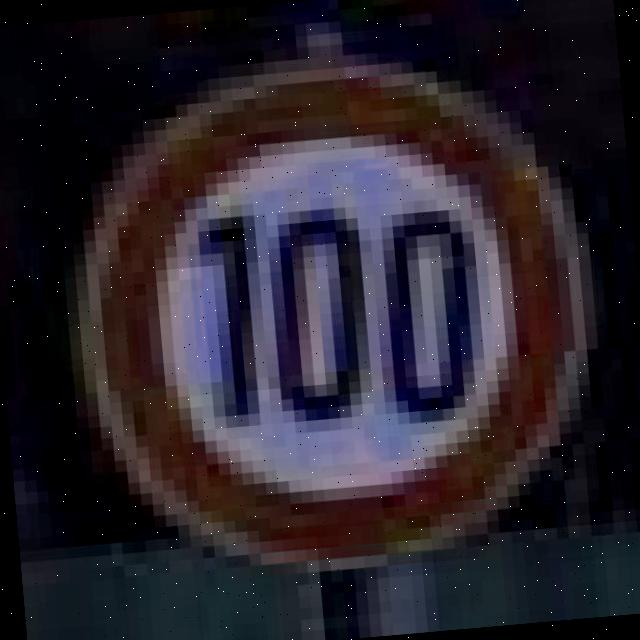Ograniczenie predkosci do 100: (65, 48, 598, 578)
